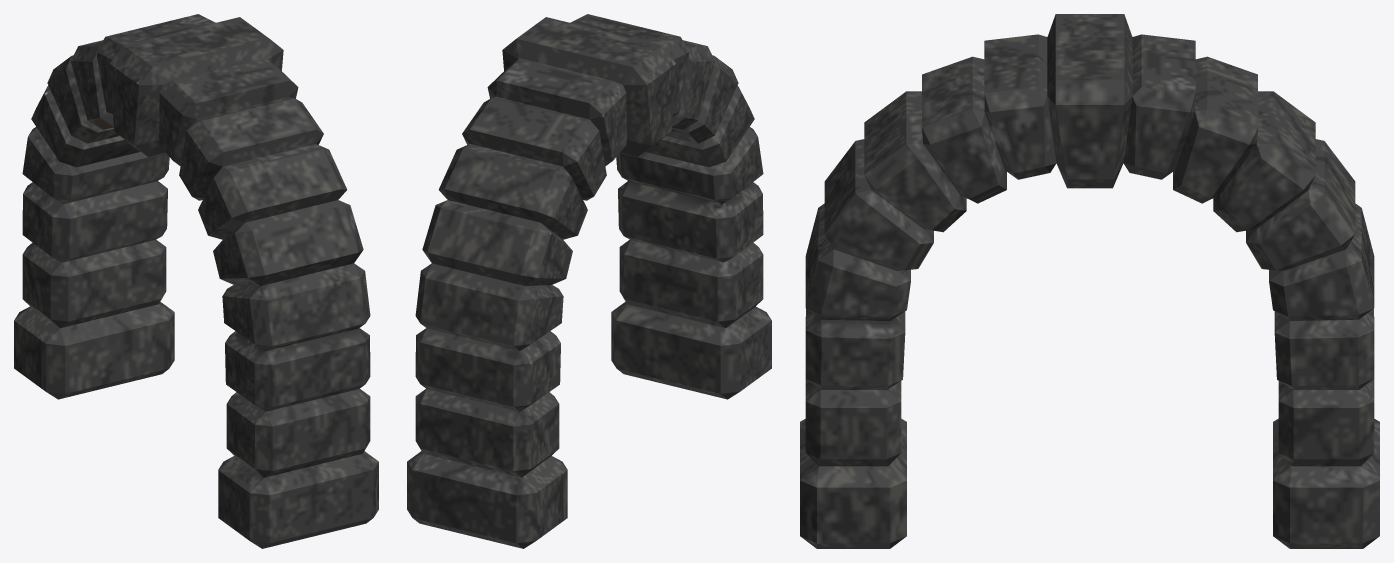
File: Gateway.fbx
3 renders of one model, left to right at view 1: azimuth 30°, elevation 25°; view 2: azimuth 150°, elevation 25°; view 3: azimuth 270°, elevation 25°, orthographic. The views are drawn at different scales.
Parts seen in each view (by area): view 1: Gateway; view 2: Gateway; view 3: Gateway.
Boxes of the visible parts, left/top/right/bottom form: Gateway: left=14, top=14, right=378, bottom=548; Gateway: left=407, top=14, right=771, bottom=548; Gateway: left=800, top=14, right=1379, bottom=548.
Bounding box in the file's own units: 290 × 781 × 868.
Materials: 1 (1 with a texture image).
